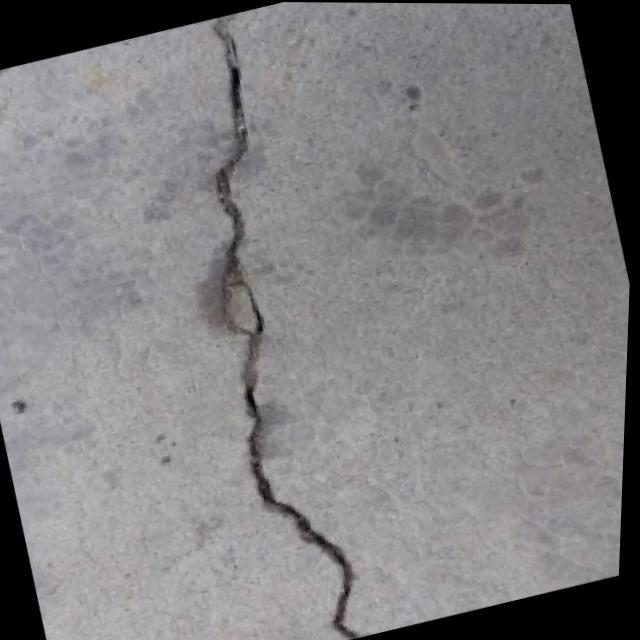Crack: (128, 5, 418, 640)
